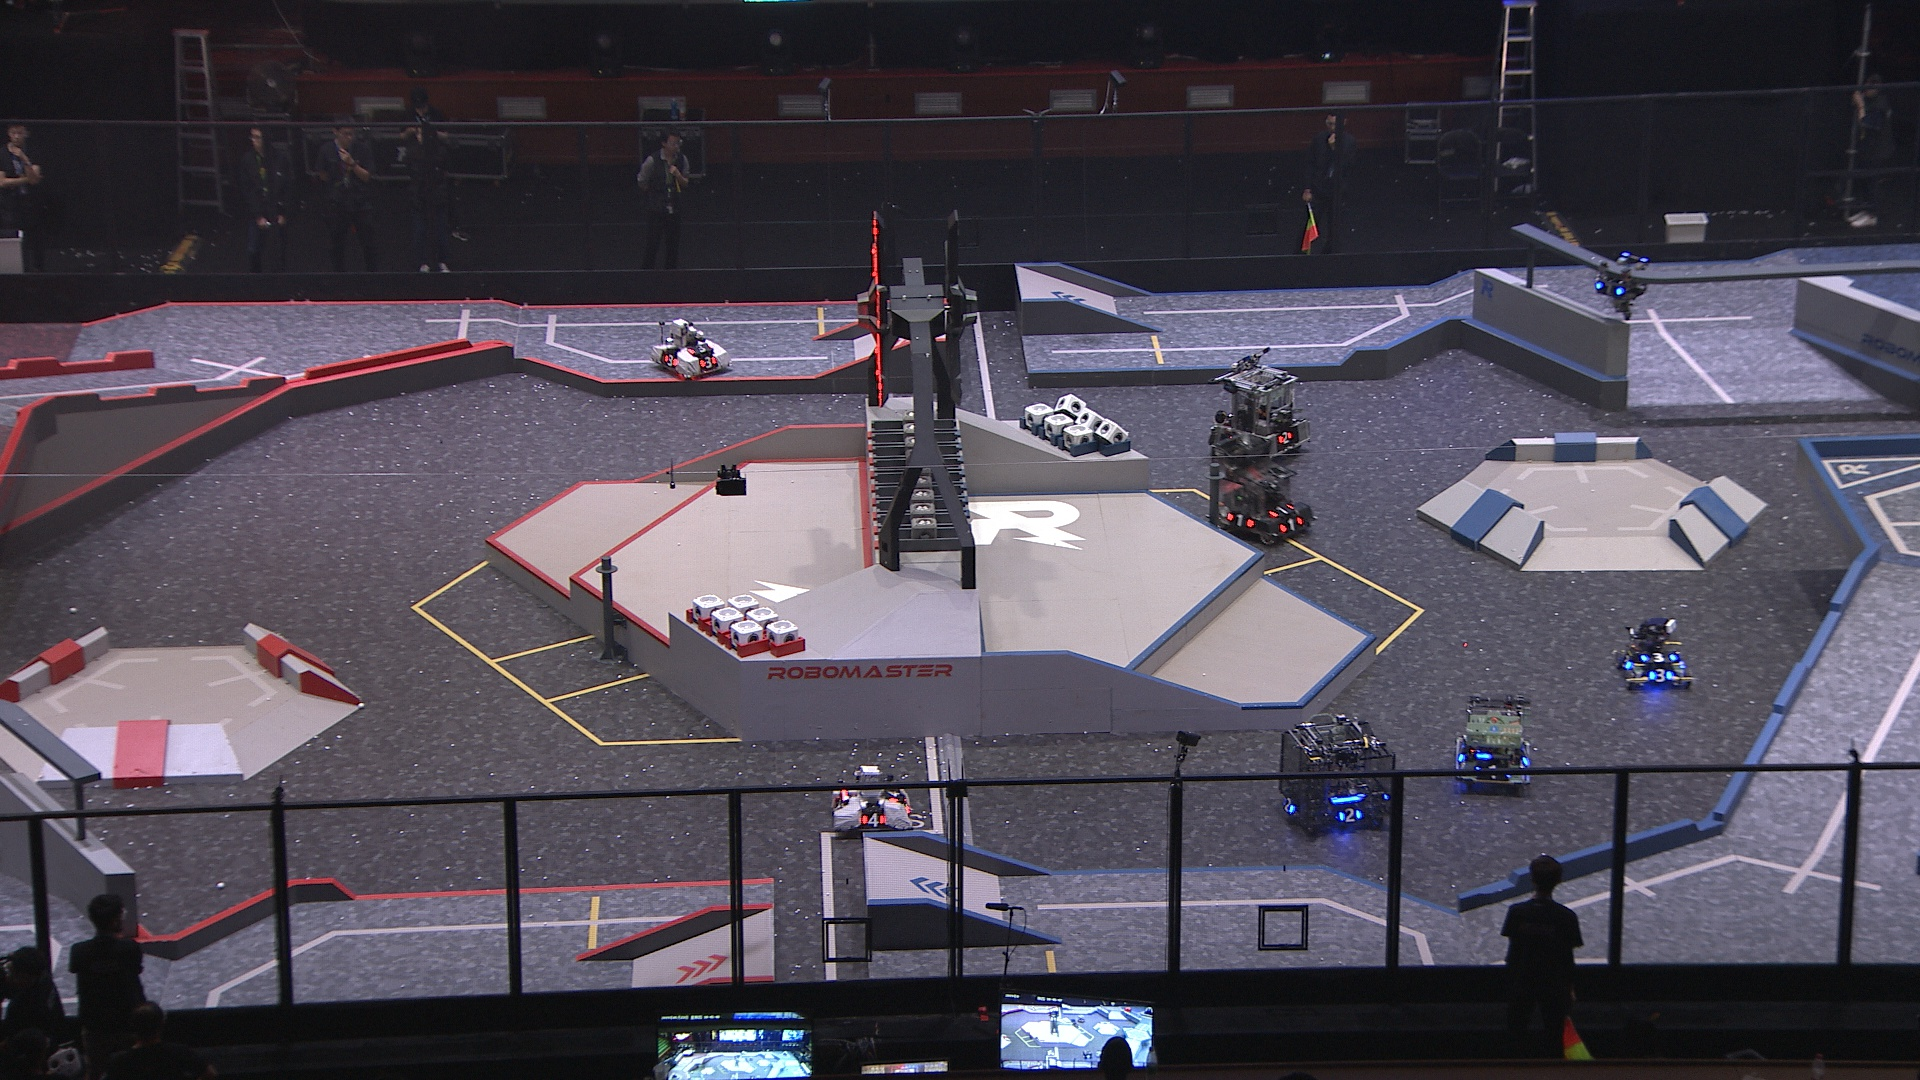armor: (1474, 761, 1514, 785), (1636, 650, 1677, 665), (1225, 513, 1257, 531), (1276, 516, 1304, 534), (1593, 280, 1625, 295), (1338, 804, 1365, 823), (860, 812, 889, 828), (1267, 501, 1294, 518), (1280, 794, 1298, 818), (1648, 666, 1671, 683), (686, 343, 713, 356), (885, 789, 905, 806), (659, 352, 679, 368), (1276, 431, 1294, 446), (698, 356, 717, 368), (1619, 654, 1633, 671)
car: (1276, 711, 1400, 839), (1207, 436, 1316, 549), (1211, 361, 1313, 460), (1455, 698, 1534, 796), (1610, 613, 1695, 692), (829, 764, 913, 837), (647, 318, 731, 384)
watcher: (1590, 249, 1652, 318)
